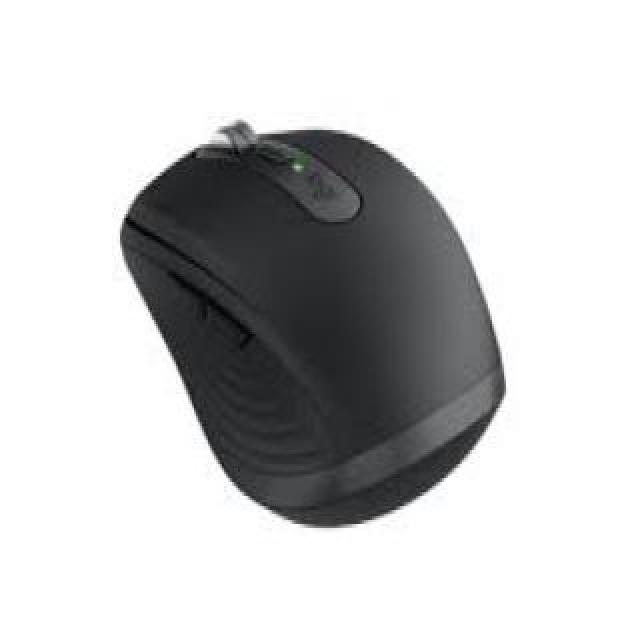mouse: (111, 114, 546, 525)
